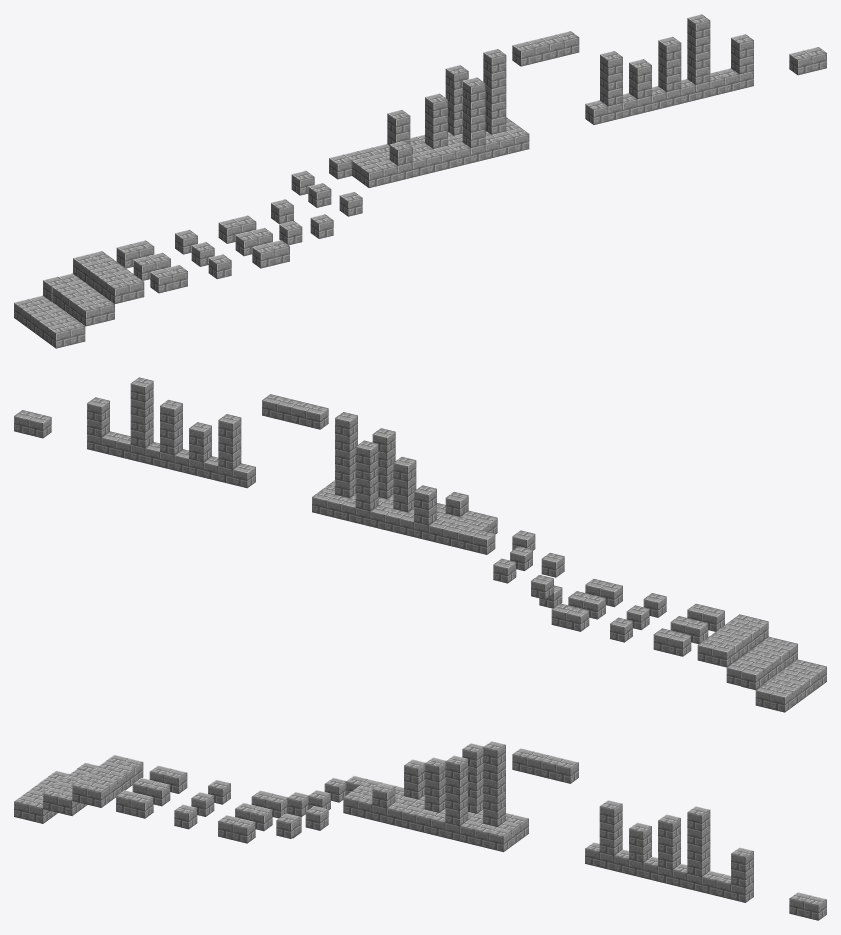
File: minecraft mapa.fbx
The picture shows the model from 3 angles, top to bottom: view 1: azimuth 30°, elevation 25°; view 2: azimuth 150°, elevation 25°; view 3: azimuth 330°, elevation 25°; orthographic projection.
Visible parts, largest first — view 1: no part large enough to name; view 2: no part large enough to name; view 3: Box180, Box230, Box122, Box126, Box244, Box085, Box136, Box142, Box181, Box190, Box119, Box204 (+52 smaller).
Boxes of the visible parts, x1,y1,x2,y2 form: Box180: (489, 827, 512, 852); Box230: (599, 800, 622, 824); Box122: (174, 804, 197, 829); Box126: (232, 818, 255, 843); Box244: (687, 806, 710, 831); Box085: (86, 783, 109, 807); Box136: (276, 814, 299, 838); Box142: (305, 806, 328, 830); Box181: (372, 783, 395, 808); Box190: (445, 755, 468, 780); Box119: (130, 794, 153, 818); Box204: (556, 759, 578, 783).
Bounding box in the file's own units: 1063 × 217 × 99.37.
1 material, 1 textured.
